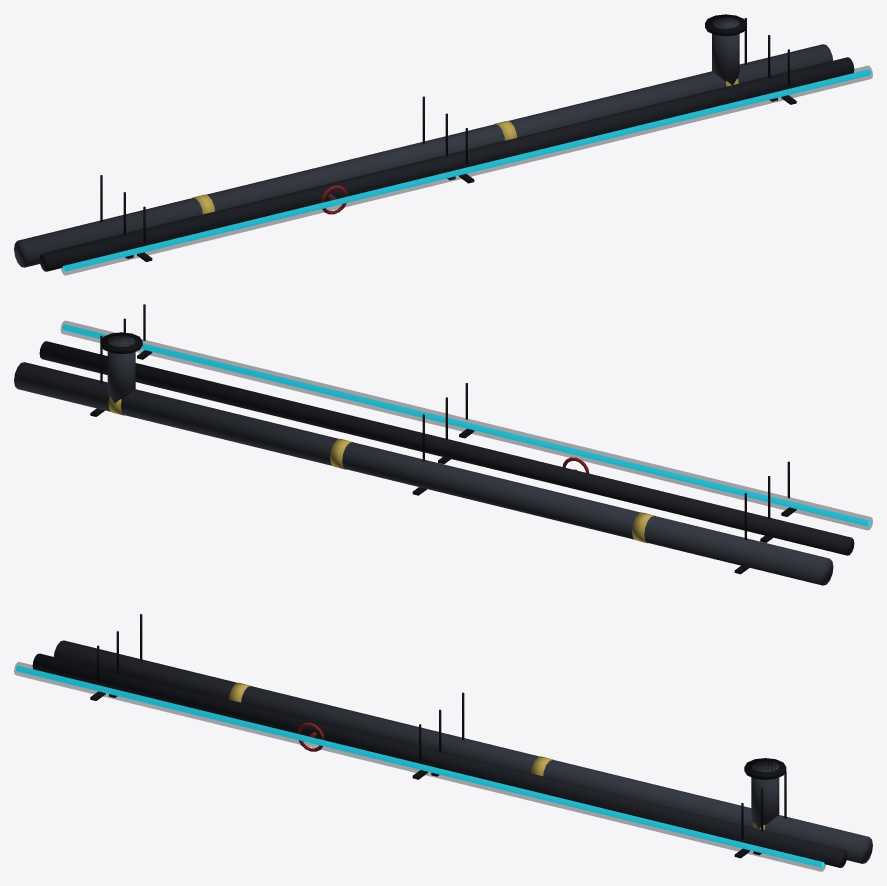
Rendered from Arch_Ceiling_PipeRun_4m.glb.
3 renders of one model, top to bottom at view 1: azimuth 30°, elevation 25°; view 2: azimuth 150°, elevation 25°; view 3: azimuth 330°, elevation 25°, orthographic.
Parts seen in each view (by area): view 1: Arch_Ceiling_PipeRun_4m; view 2: Arch_Ceiling_PipeRun_4m; view 3: Arch_Ceiling_PipeRun_4m.
Part boxes in pixels (bbox=[...]): Arch_Ceiling_PipeRun_4m: bbox=[14, 14, 872, 275]; Arch_Ceiling_PipeRun_4m: bbox=[14, 304, 872, 585]; Arch_Ceiling_PipeRun_4m: bbox=[14, 614, 872, 871].
Size of the model in its own units: 4 by 0.352 by 0.5.
